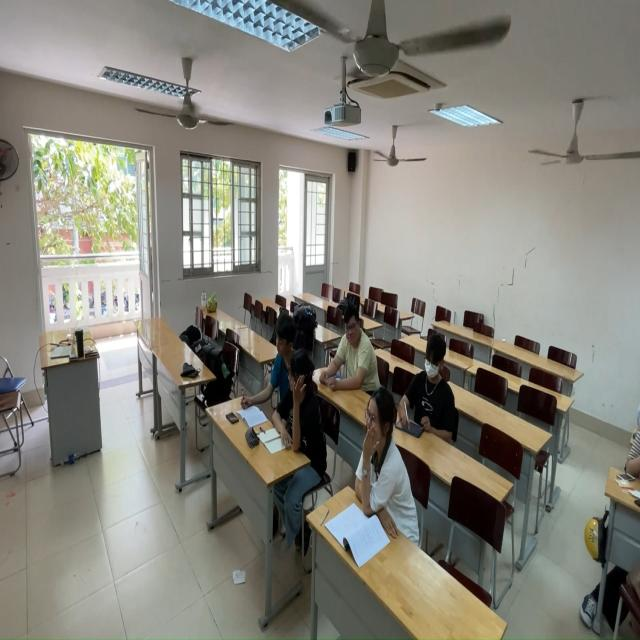raise_hand: (351, 377, 424, 533), (278, 345, 329, 456)
read: (232, 307, 304, 413), (399, 323, 458, 436), (322, 301, 380, 391)
